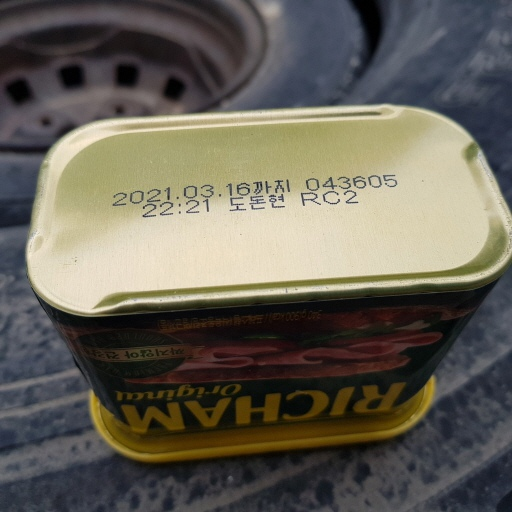Metal_2: (23, 110, 512, 465)
